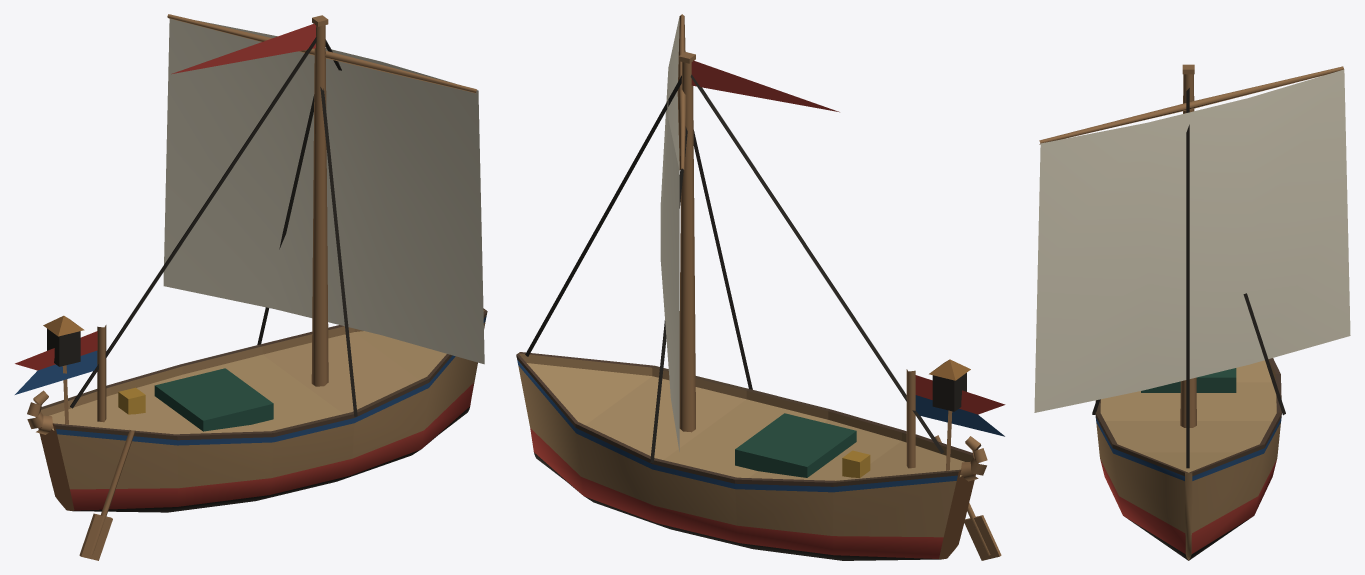
The model's file is hull_usd_fisher_skiff.glb.
3 views of the same model, side by side, from view 1: azimuth 30°, elevation 25°; view 2: azimuth 150°, elevation 25°; view 3: azimuth 270°, elevation 25° (orthographic). The views are drawn at different scales.
Parts seen in each view (by area): view 1: sail_main, hull, deck, mast, rigging, flag, yards, stern_lantern_glass; view 2: hull, deck, mast, sail_main, rigging, flag, stern_lantern_glass, yards; view 3: sail_main, hull, rigging, yards, mast, deck.
Part boxes in pixels (left/top/right/bottom): sail_main: left=163, top=19, right=484, bottom=364; hull: left=27, top=308, right=487, bottom=512; deck: left=43, top=315, right=273, bottom=560; mast: left=97, top=15, right=328, bottom=422; rigging: left=70, top=37, right=357, bottom=416; flag: left=15, top=23, right=316, bottom=394; yards: left=167, top=14, right=476, bottom=93; stern_lantern_glass: left=47, top=328, right=80, bottom=366; hull: left=516, top=352, right=987, bottom=560; deck: left=735, top=359, right=1001, bottom=560; mast: left=679, top=52, right=915, bottom=468; sail_main: left=660, top=16, right=679, bottom=451; rigging: left=525, top=74, right=944, bottom=462; flag: left=691, top=60, right=1005, bottom=436; stern_lantern_glass: left=932, top=373, right=966, bottom=411; yards: left=677, top=14, right=686, bottom=169; sail_main: left=1034, top=69, right=1350, bottom=412; hull: left=1095, top=358, right=1281, bottom=560; rigging: left=1092, top=88, right=1285, bottom=468; yards: left=1039, top=66, right=1343, bottom=144; mast: left=1180, top=64, right=1196, bottom=427; deck: left=1141, top=368, right=1236, bottom=392.
Size of the model in its own units: 5.37 by 4.93 by 3.15.
